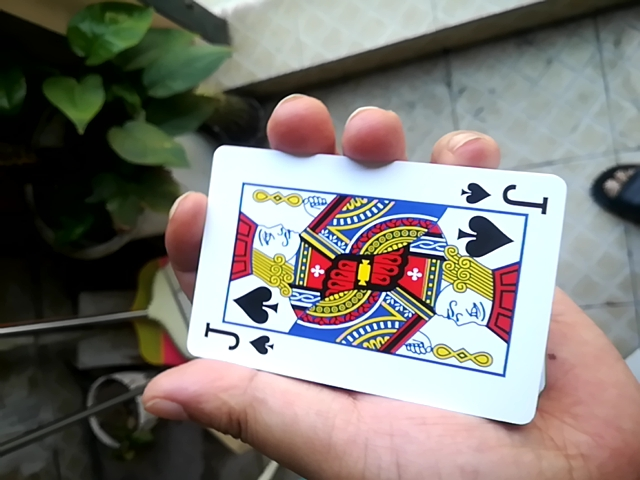ht j: (172, 130, 568, 425)
